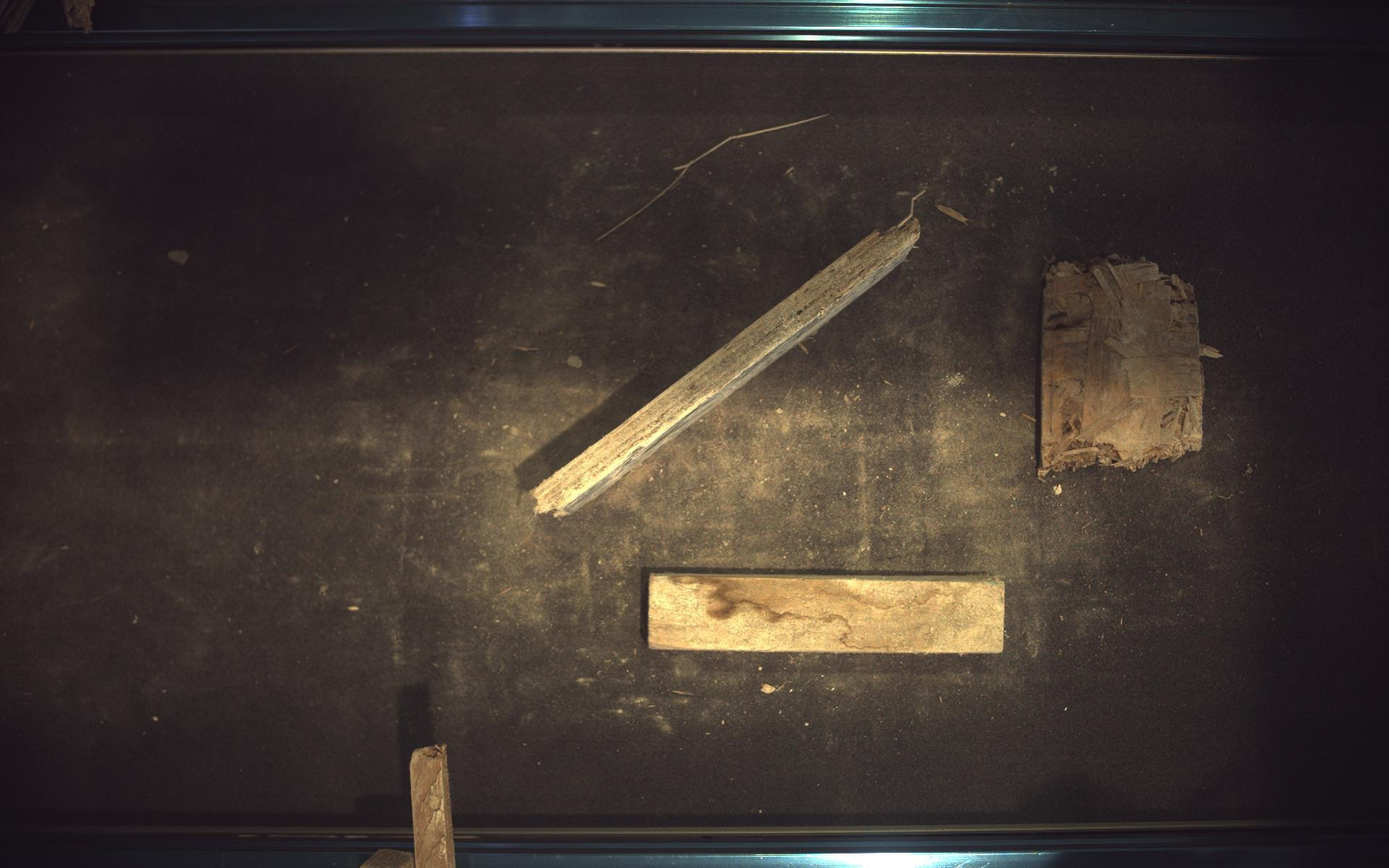wood: (533, 211, 922, 517)
